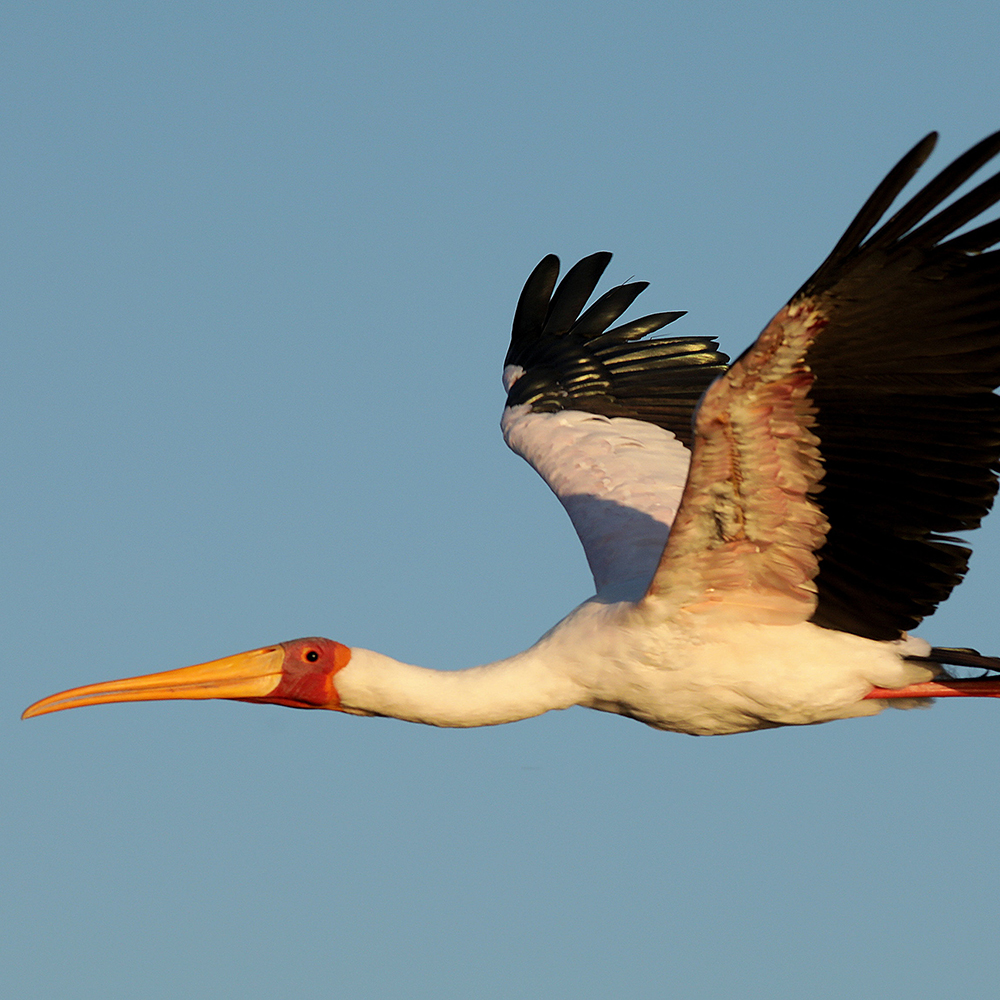bird: (18, 126, 1000, 751)
